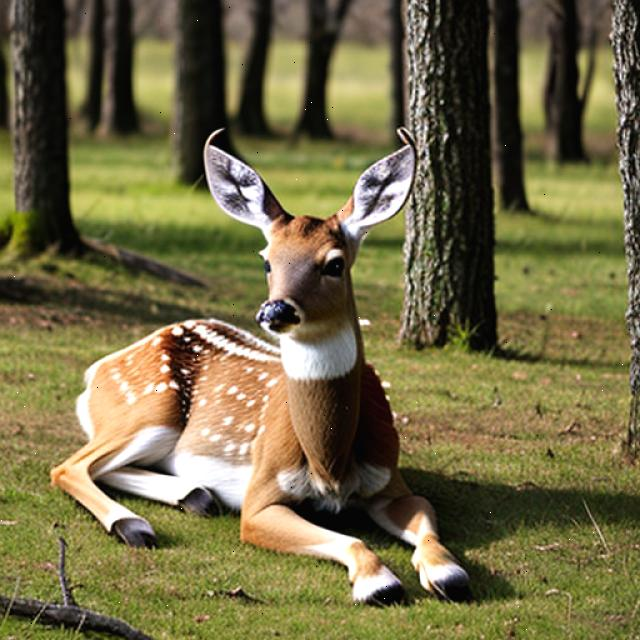deer: (0, 97, 487, 640)
